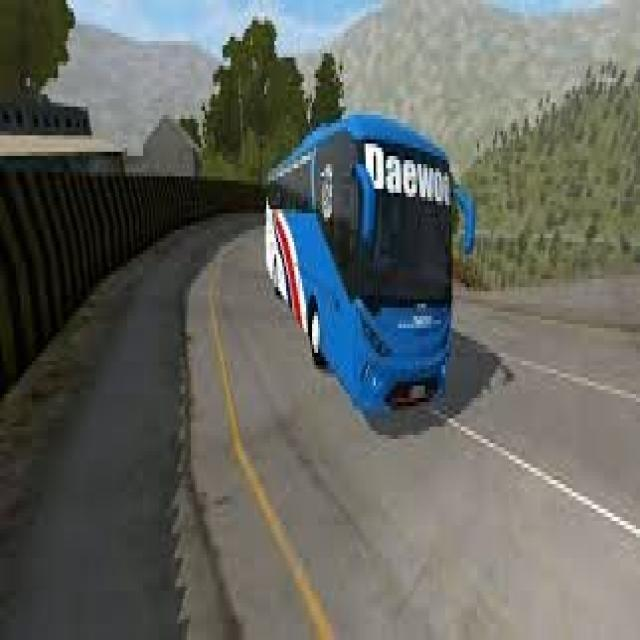bus: (254, 104, 480, 462)
